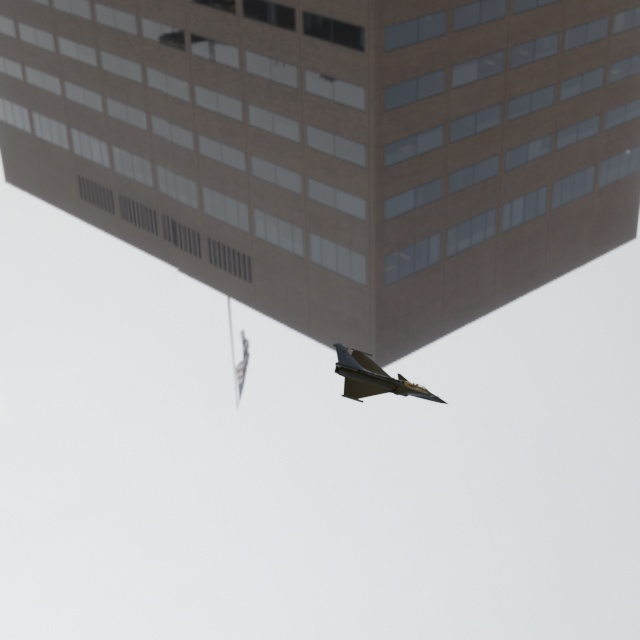dassault_rafale: (320, 319, 460, 431)
